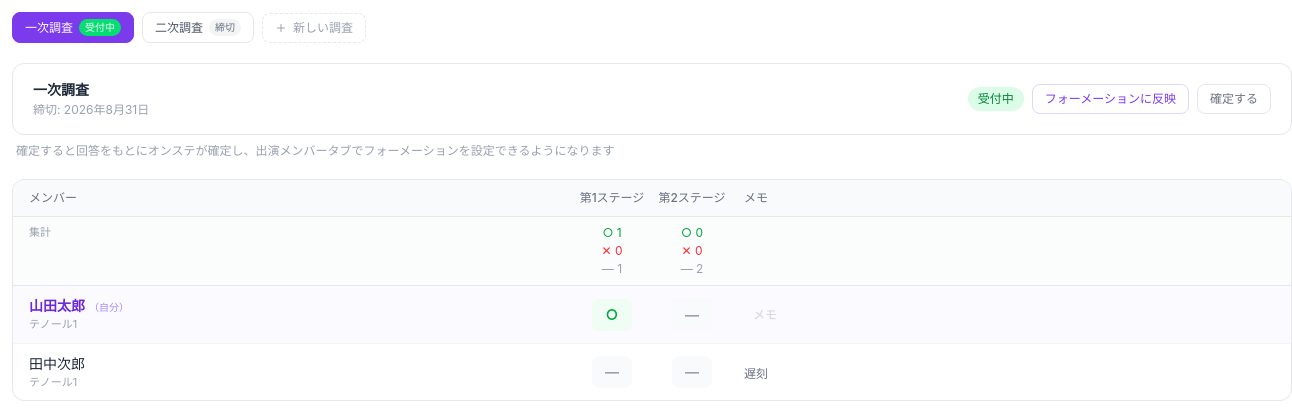
SurveyTab（失敗の表示） › 別の調査の読み込みに失敗したら、前の調査の回答を消してエラーを表示する
Expected: the text "山田太郎" is shown, [29,297,85,314]
Click the button "二次調査 締切".
click(198, 28)  # box [142,12,254,43]
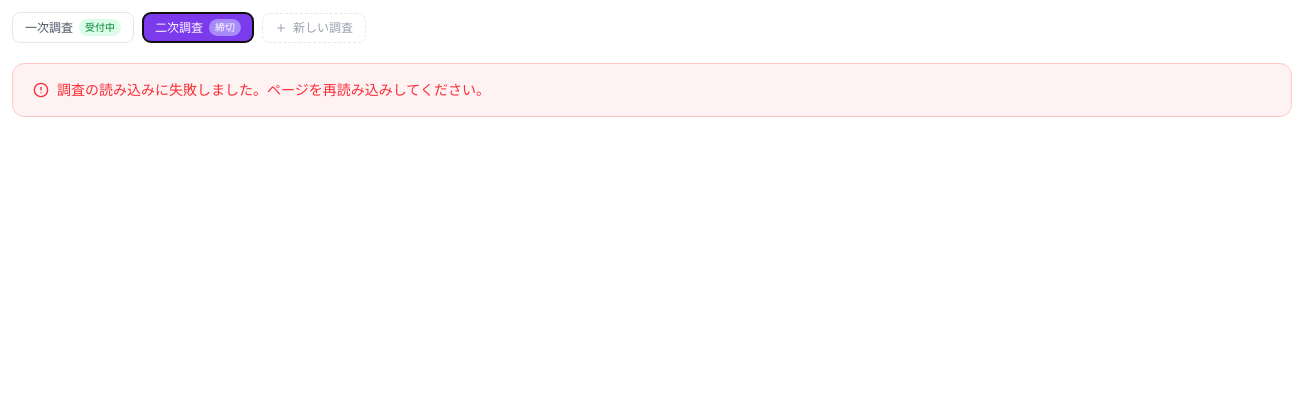
Expected: the message reads "調査の読み込みに失敗しました。ページを再読み込みしてください。", [57,81,490,98]
Expected: the text "山田太郎" is gone
